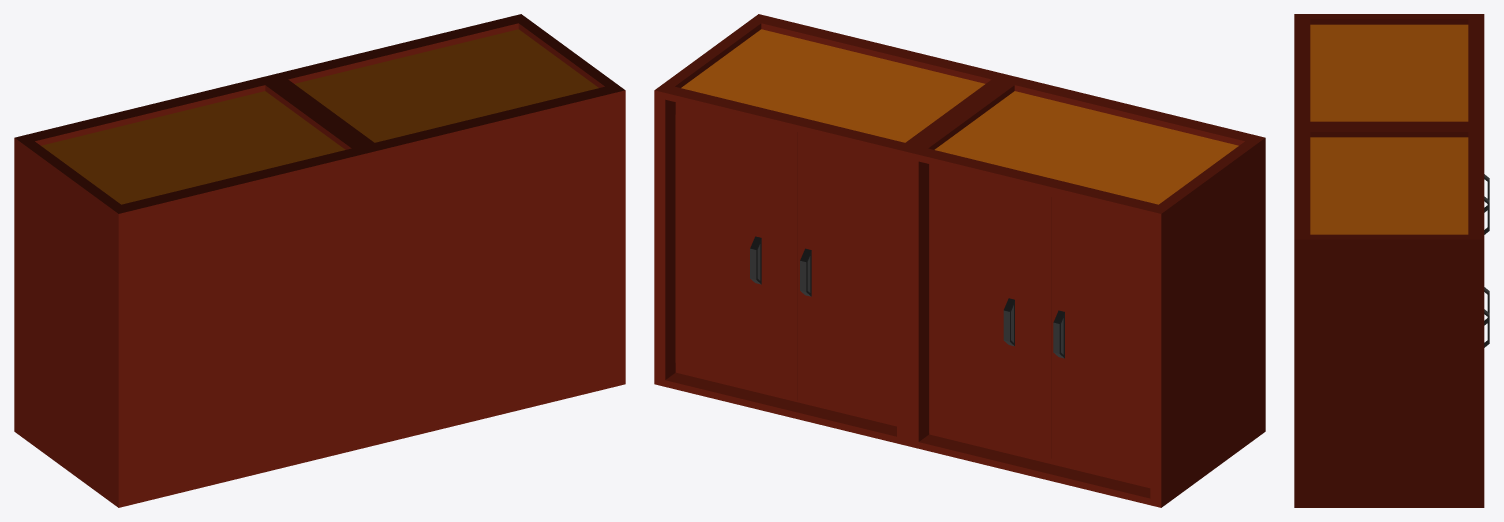
The model's file is Cabinet 4.fbx.
3 renders of one model, left to right at view 1: azimuth 30°, elevation 25°; view 2: azimuth 150°, elevation 25°; view 3: azimuth 270°, elevation 25°, orthographic. The views are drawn at different scales.
Parts seen in each view (by area): view 1: Node 0; view 2: Node 0, Node 4, Node 2, Node 1, Node 3; view 3: Node 0.
Boxes of the visible parts, x1,y1,x2,y2 form: Node 0: [14, 14, 625, 507]; Node 0: [654, 14, 1265, 507]; Node 4: [675, 102, 785, 398]; Node 2: [929, 164, 1038, 460]; Node 1: [1051, 194, 1150, 488]; Node 3: [797, 132, 896, 426]; Node 0: [1294, 14, 1484, 507].
Bounding box in the file's own units: 0.5887 × 0.8911 × 1.61.
